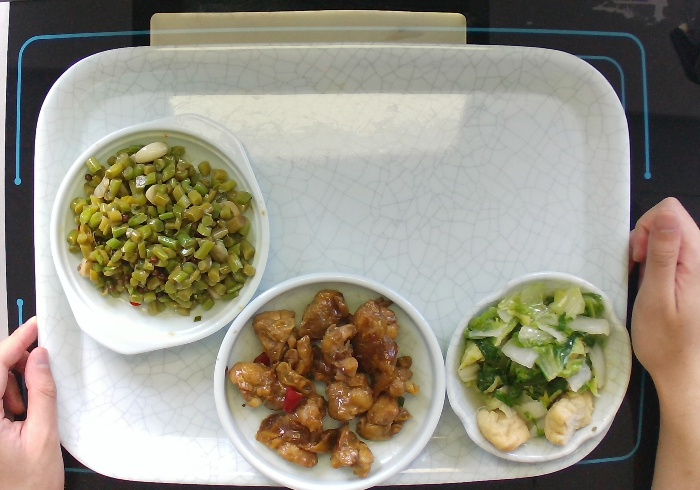JYsf-Ao_Yuan_Wan: (443, 269, 631, 468)
JYsf-Shuang_Er_Pan: (47, 114, 271, 357)
JYsf-Xiao_Yuan_Pan: (211, 269, 445, 489)
